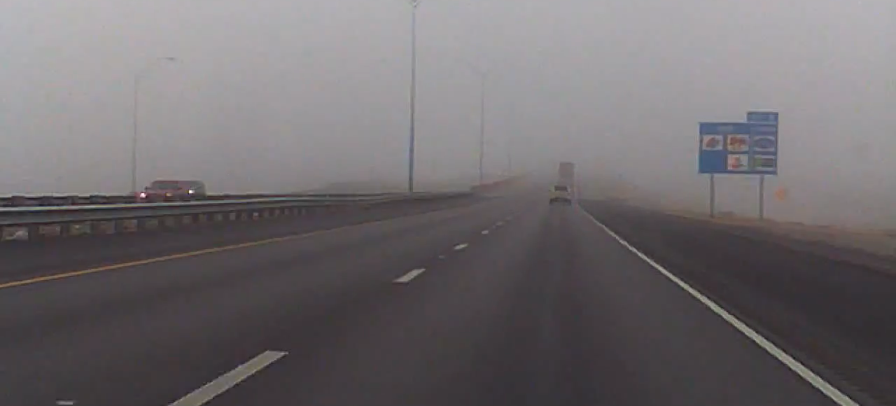bus: (559, 158, 576, 180)
car: (140, 178, 192, 211), (175, 179, 208, 205), (547, 184, 572, 205)
